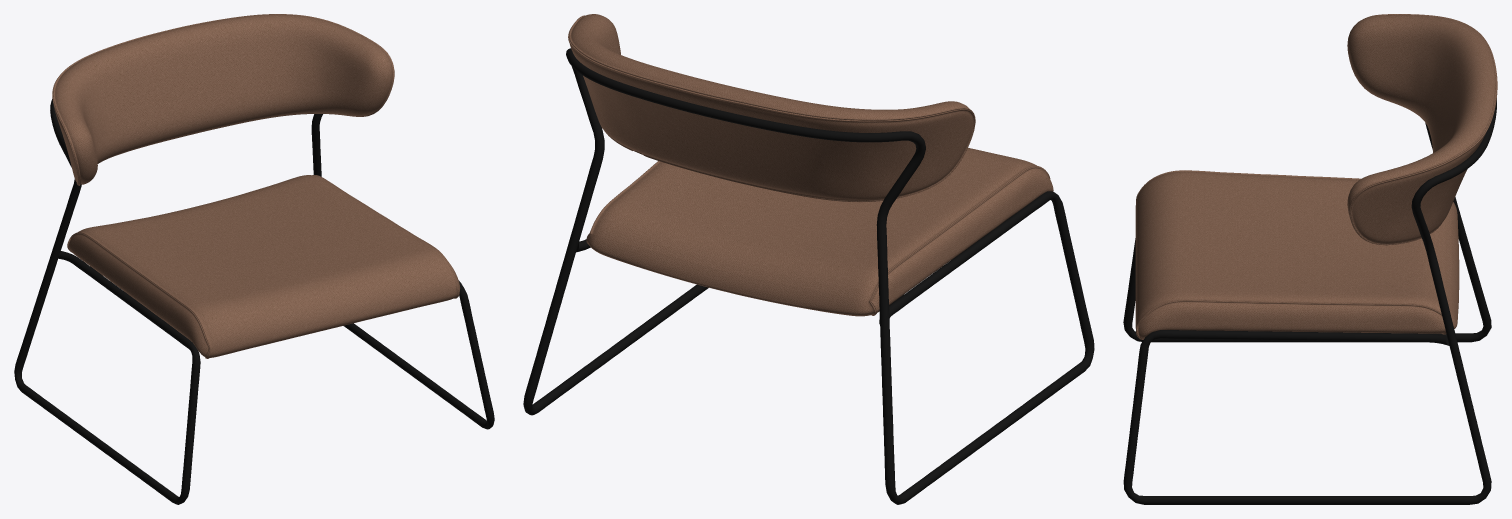
Rendered from LisaLounge.fbx.
The picture shows the model from 3 angles, left to right: view 1: azimuth 30°, elevation 25°; view 2: azimuth 150°, elevation 25°; view 3: azimuth 270°, elevation 25°; orthographic projection. The views are drawn at different scales.
Visible parts, largest first — view 1: Obj_000001, Obj_000002; view 2: Obj_000001, Obj_000002; view 3: Obj_000001, Obj_000002.
Boxes of the visible parts, x1,y1,x2,y2 form: Obj_000001: (52,14,460,358); Obj_000002: (14,99,494,504); Obj_000001: (568,14,1053,316); Obj_000002: (523,48,1094,504); Obj_000001: (1135,14,1497,339); Obj_000002: (1123,98,1496,504).
Bounding box in the file's own units: 0.702 × 0.661 × 0.6527.
Materials: 2 (1 with a texture image).
